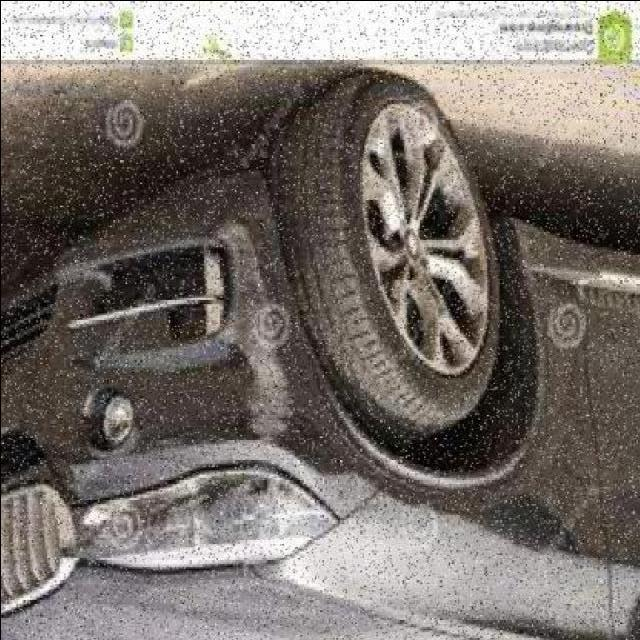front-bumper-dent: (7, 178, 368, 512)
